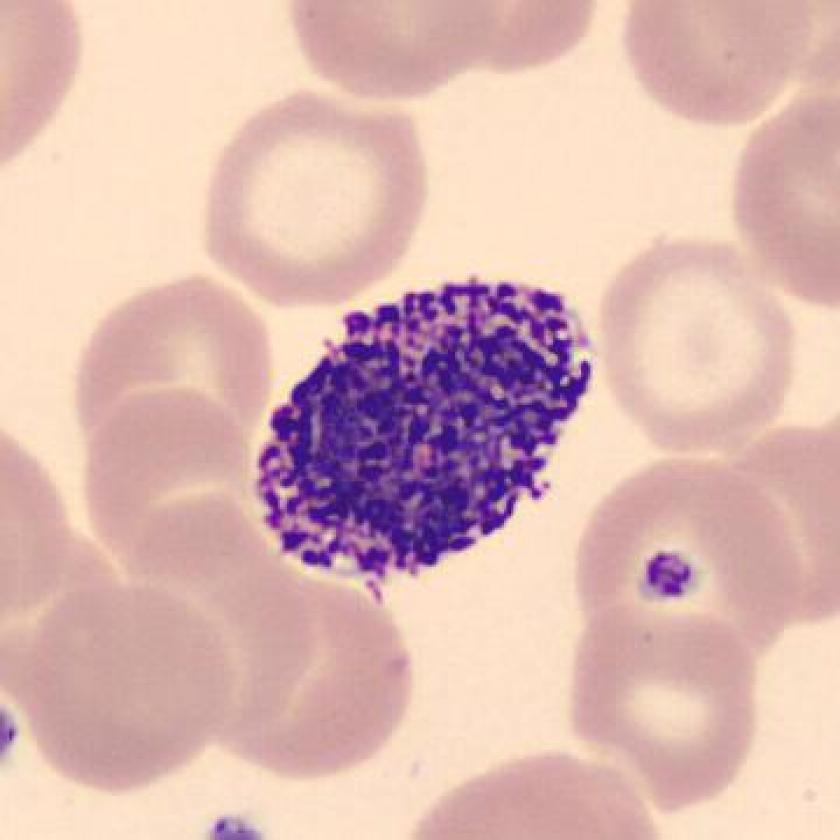basophil: (242, 272, 613, 589)
